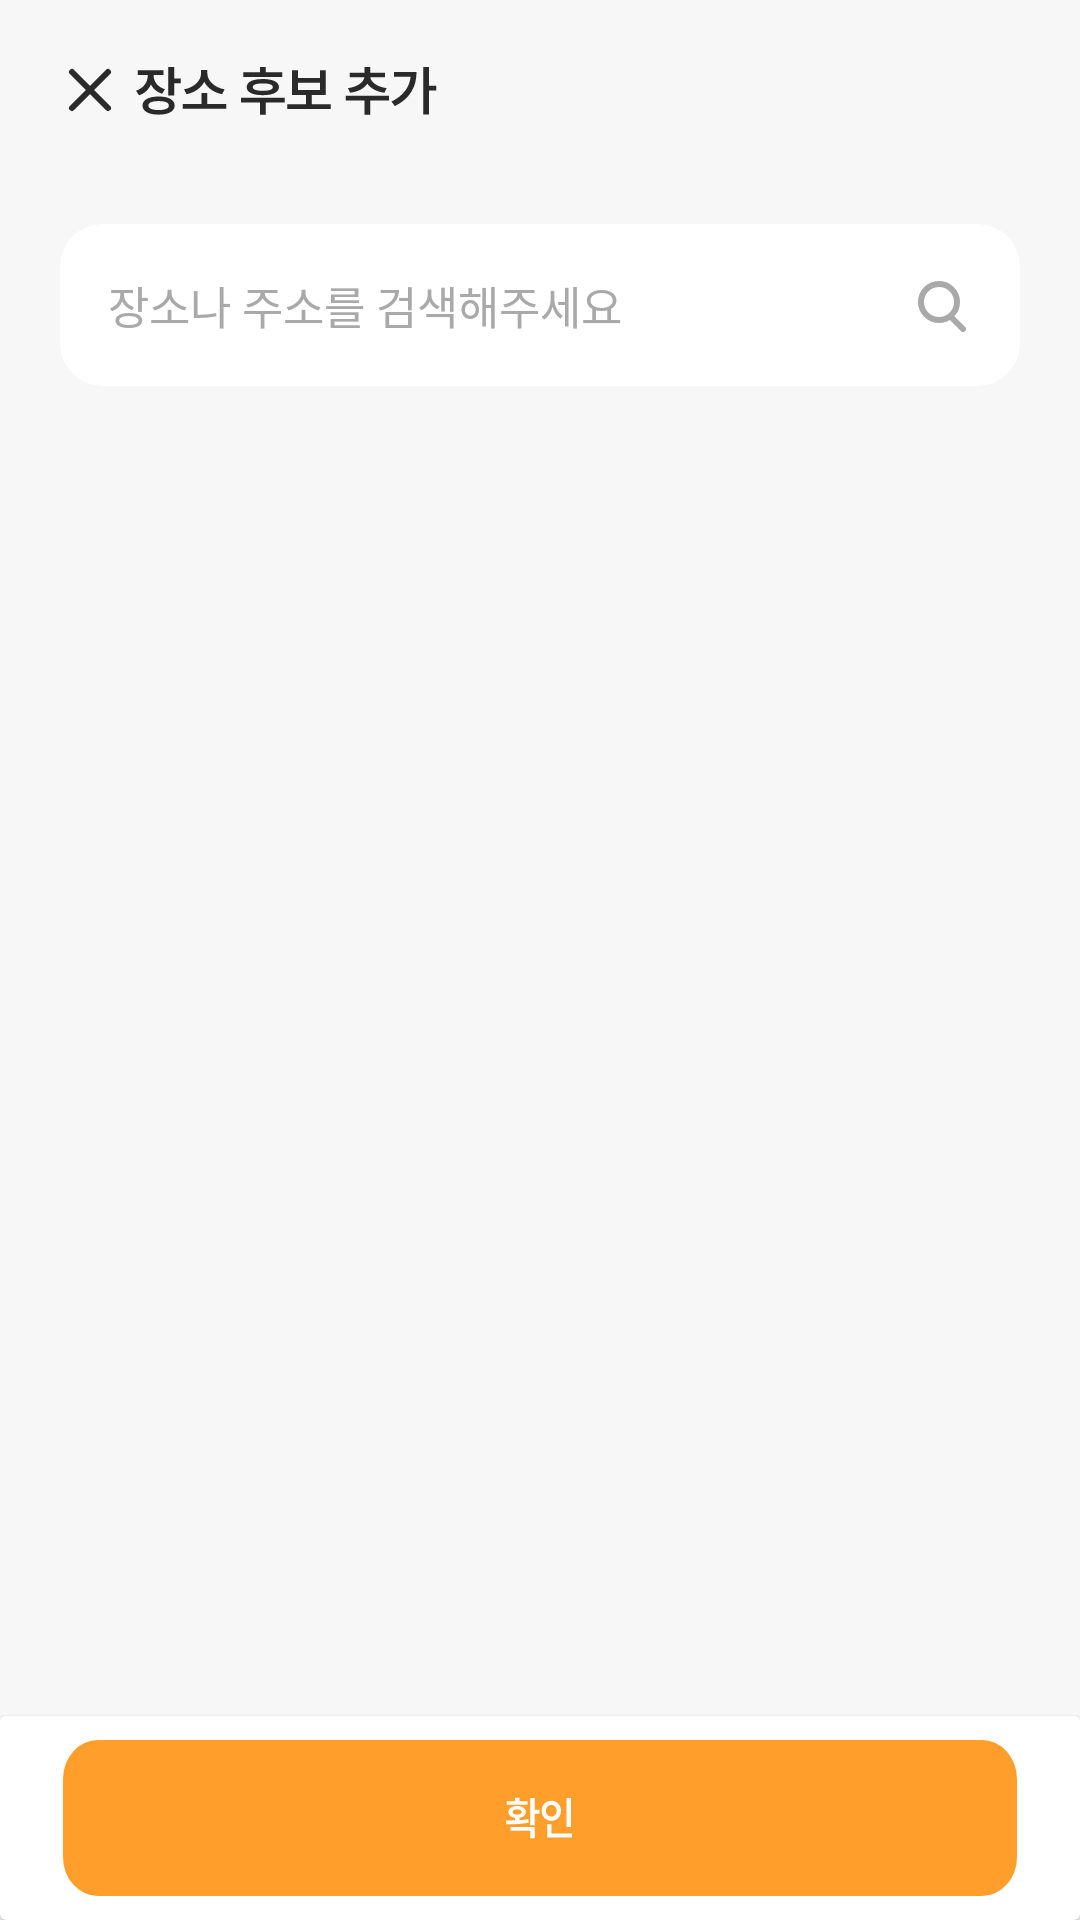

Point at icon controls on the screen. Image size 1080 x 1920, points as (x,y).
close: (90,89)
search: (942,306)
